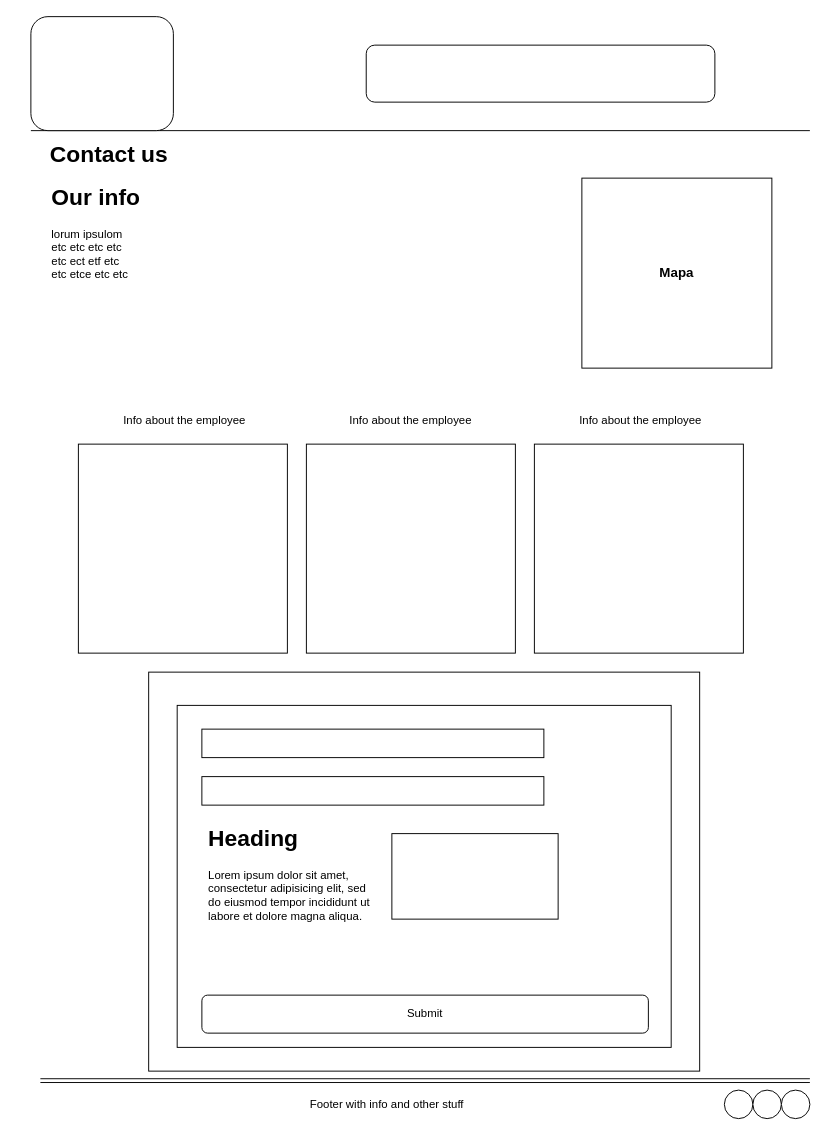
This 827x1135 diagram has some shape labels left out. Each missing label, with the centre of its shape:
Home page | About us | contact us | I forgot this one: [540,73]
Logo: [101,73]
